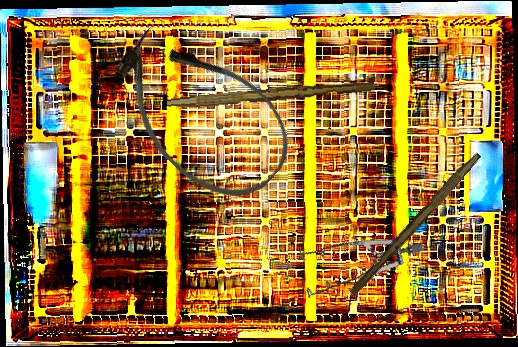Cannula: (92, 6, 310, 221)
Scalpel Handle: (348, 148, 482, 299), (166, 77, 376, 114)
Speculum: (285, 205, 426, 330)
